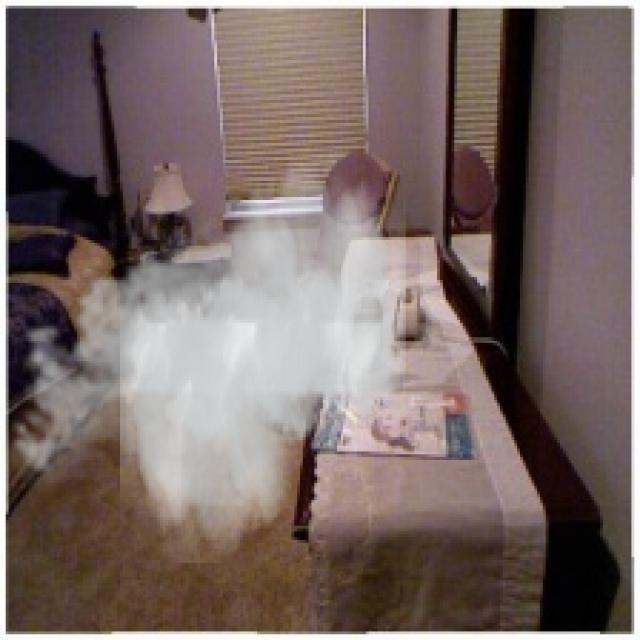Smoke: (0, 151, 406, 563)
